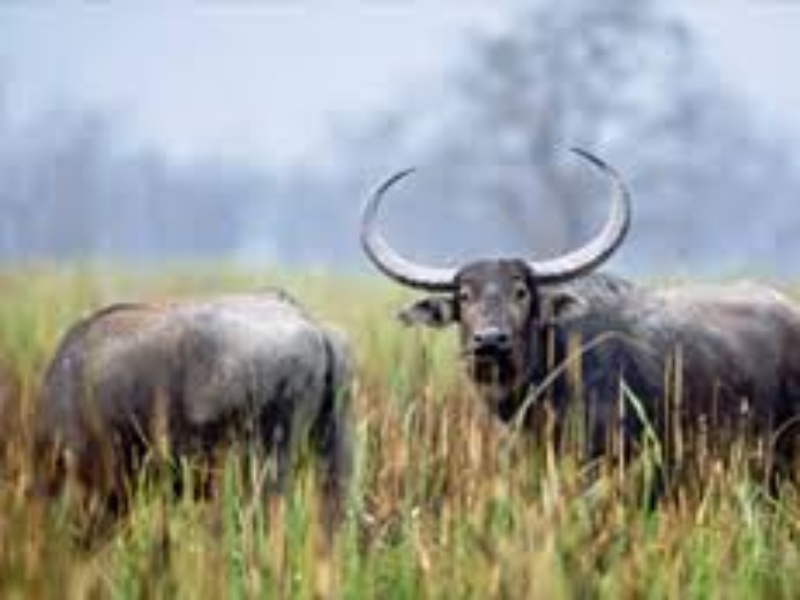buffalo: (354, 141, 786, 480)
